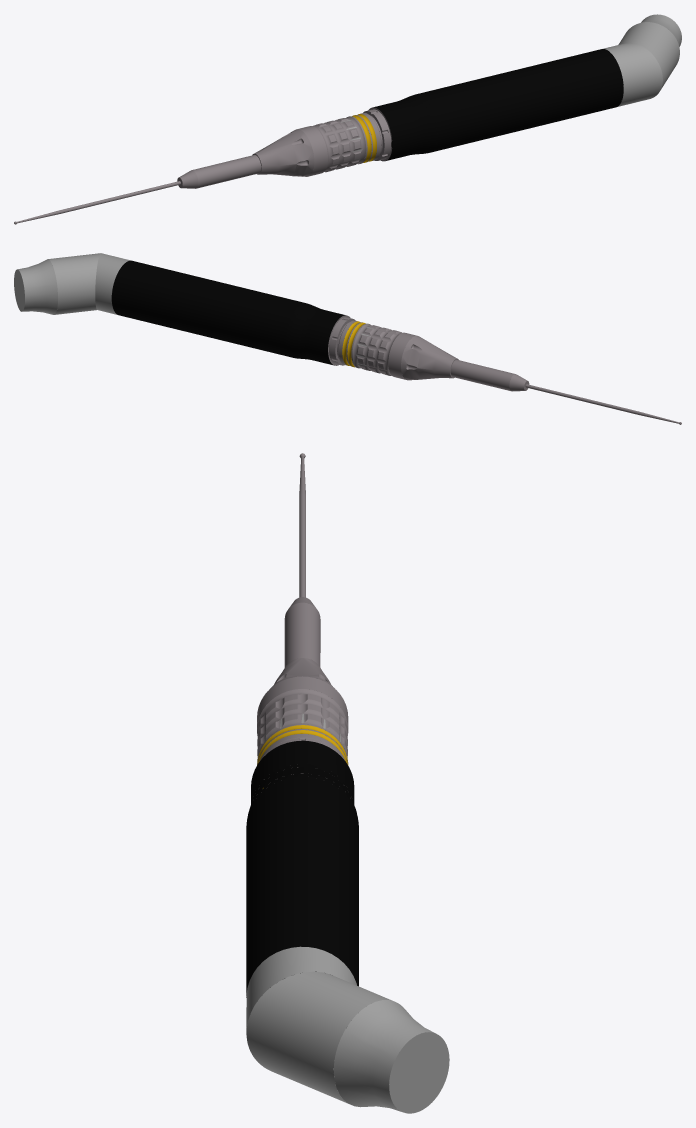
The model's file is 1mm_drill_body.OBJ.
3 renders of one model, top to bottom at view 1: azimuth 30°, elevation 25°; view 2: azimuth 150°, elevation 25°; view 3: azimuth 270°, elevation 25°, orthographic. The views are drawn at different scales.
Visible parts, largest first — view 1: /ambf/env/1mm_1mm; view 2: /ambf/env/1mm_1mm; view 3: /ambf/env/1mm_1mm.
Boxes of the visible parts, x1,y1,x2,y2 form: /ambf/env/1mm_1mm: (14, 14, 681, 224); /ambf/env/1mm_1mm: (14, 253, 681, 424); /ambf/env/1mm_1mm: (246, 453, 449, 1113).
Bounding box in the file's own units: 0.5064 × 0.0381 × 0.0689.
